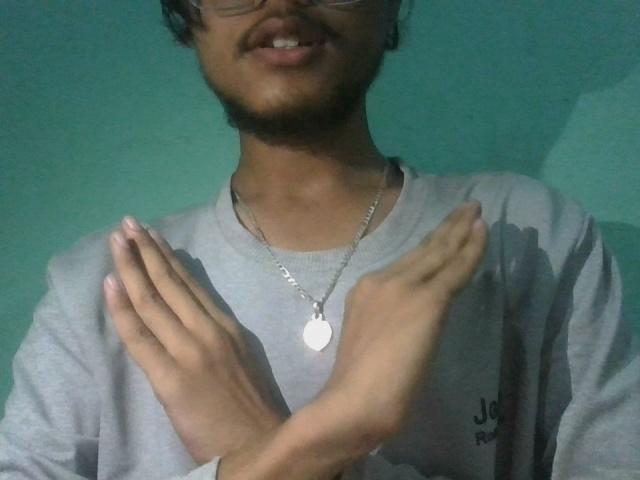dont: (101, 191, 500, 448)
